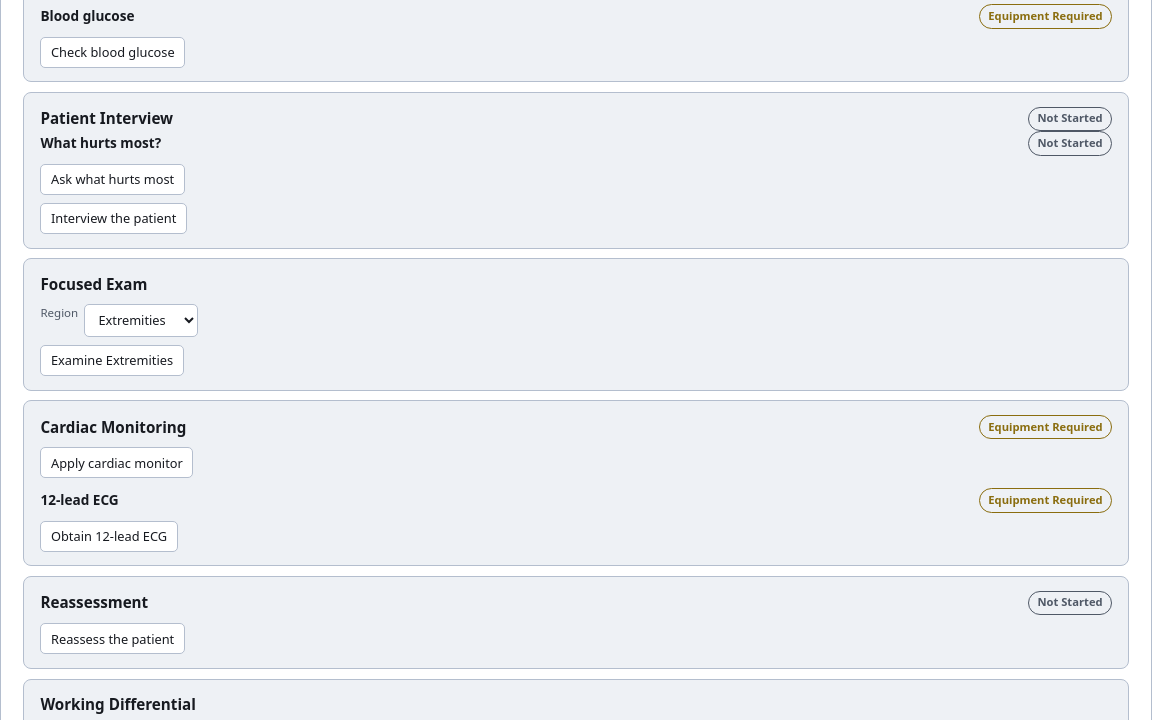
ClinicalPanel — lock & hidden findings (§19) › a focused exam reveals only the selected region
(page scrolled)
Click the button "Examine Extremities". click: (112, 360)
box: [40,345,184,376]
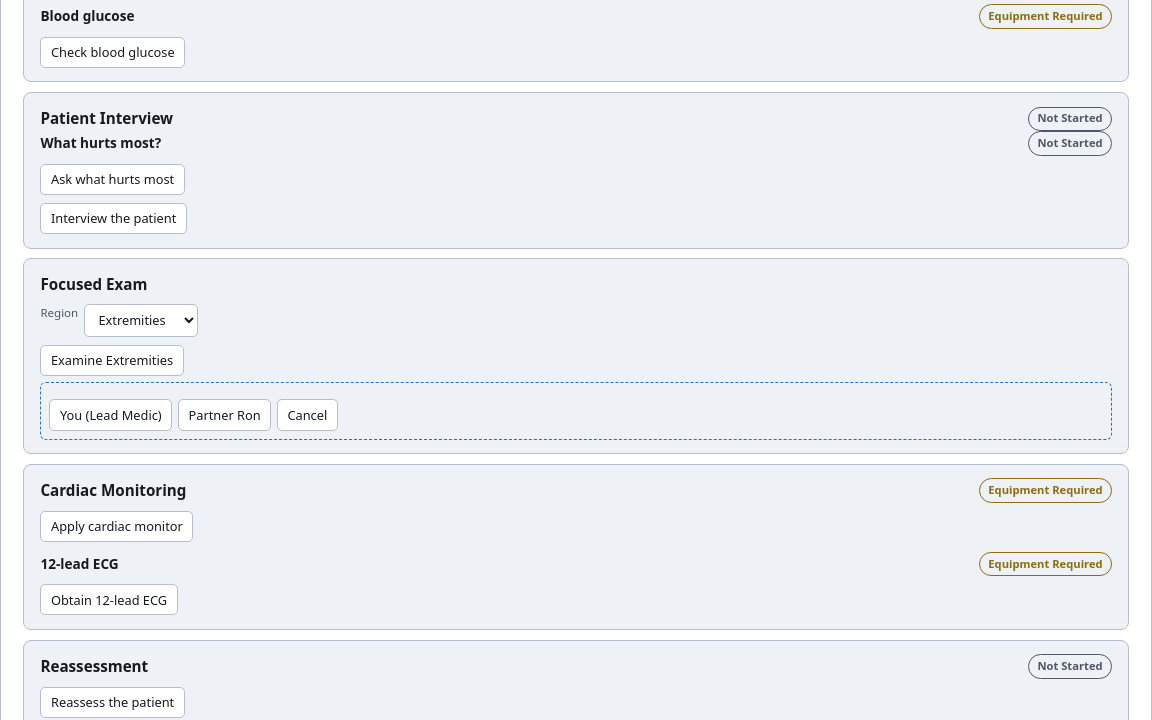
Click the button "Partner Ron". click: (225, 415)
box: [178,399,271,430]
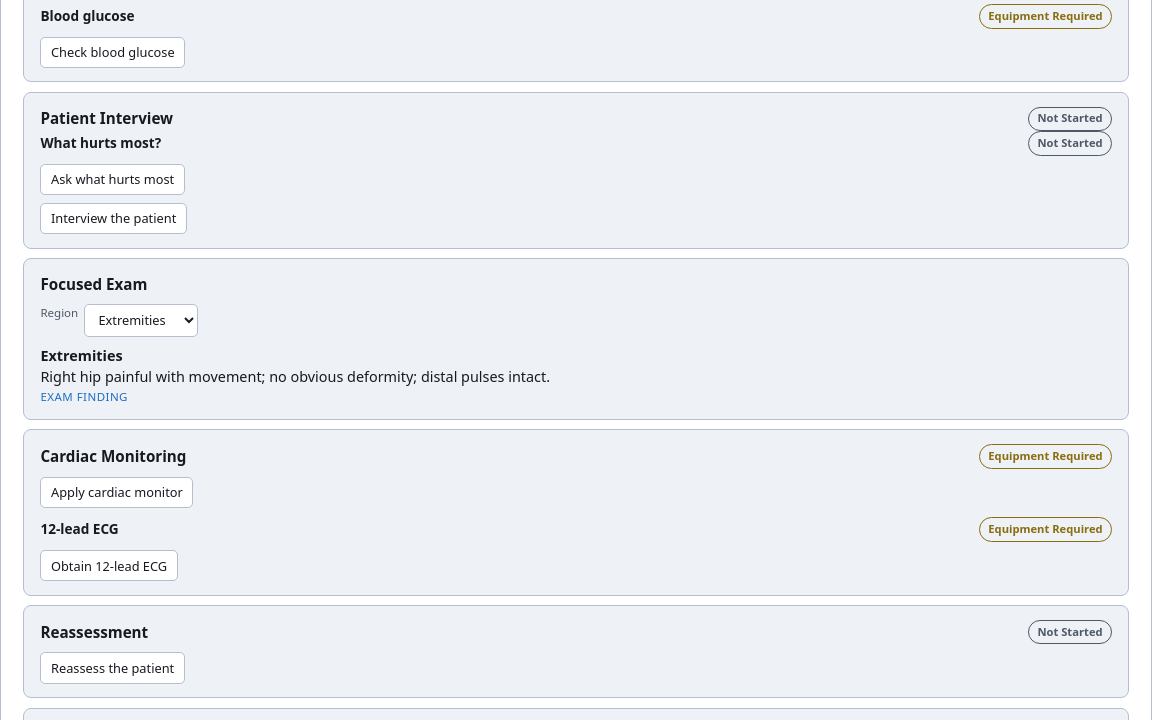
Expected: the text "Right hip painful with movement" is shown, [40,367,550,386]
